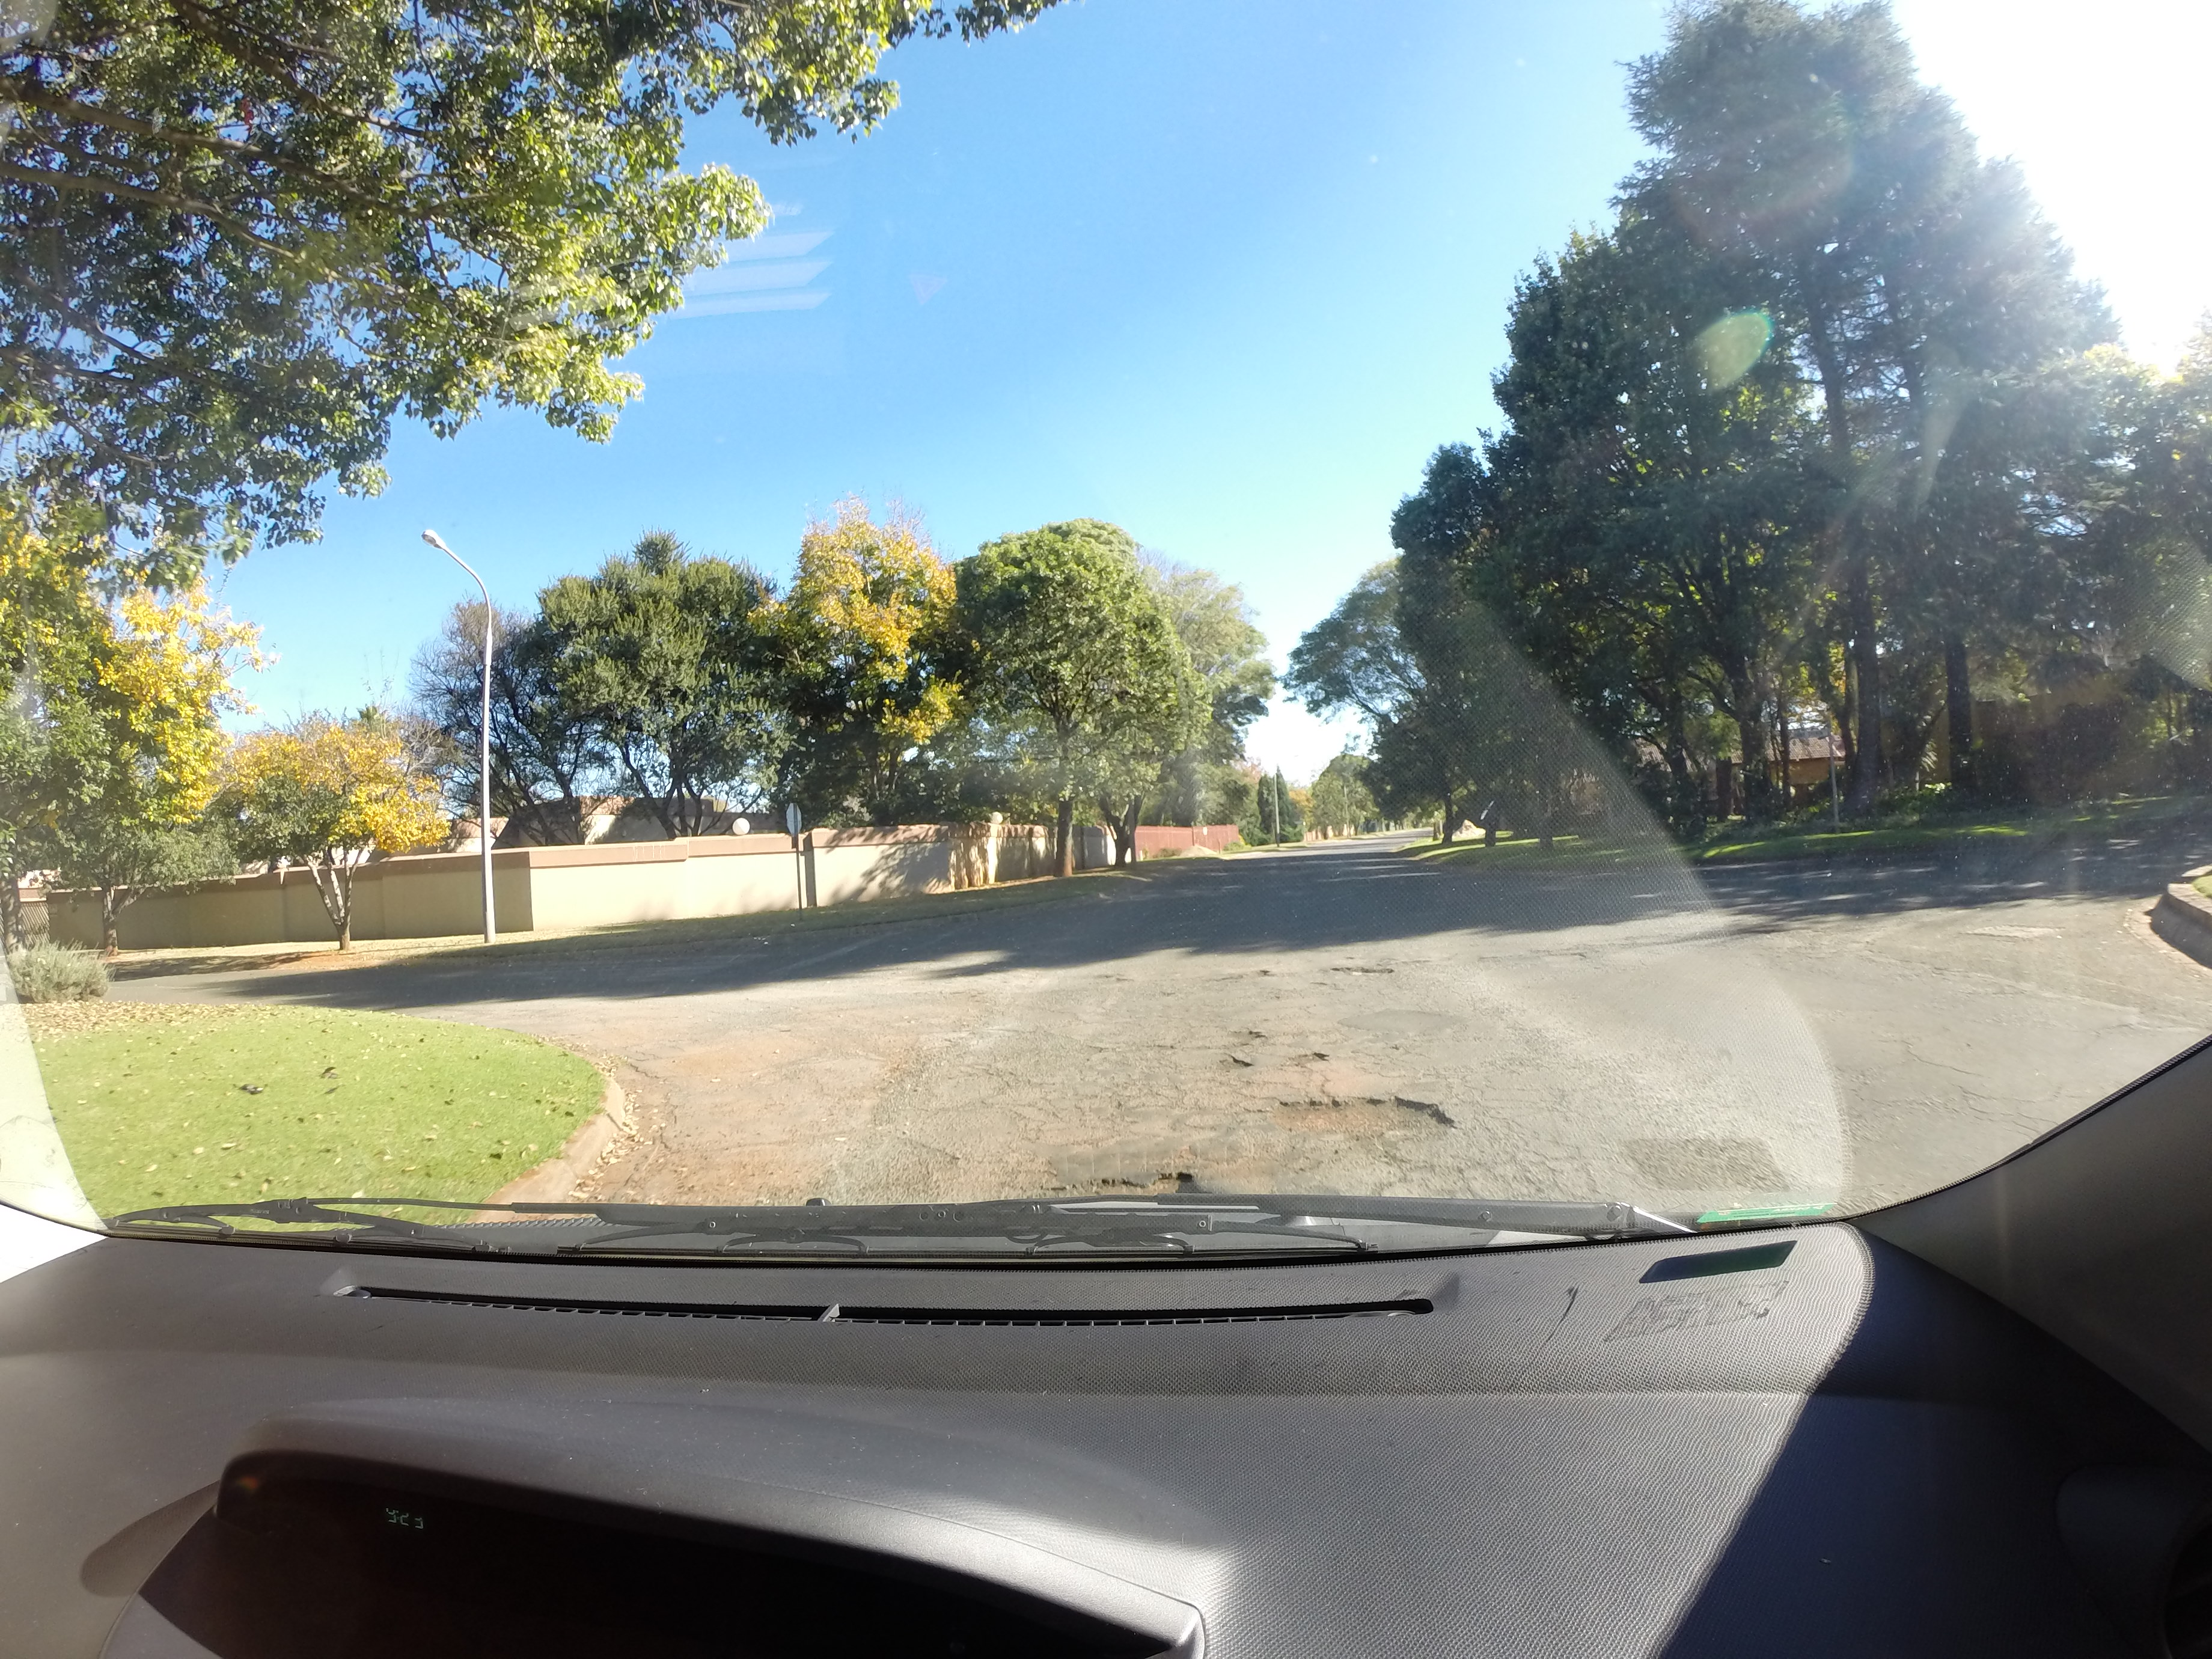pothole: (1263, 1082, 1468, 1168), (1082, 1155, 1219, 1202)
